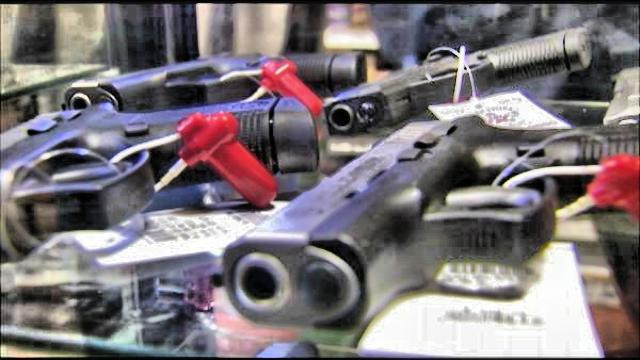pistol: (197, 106, 637, 320)
